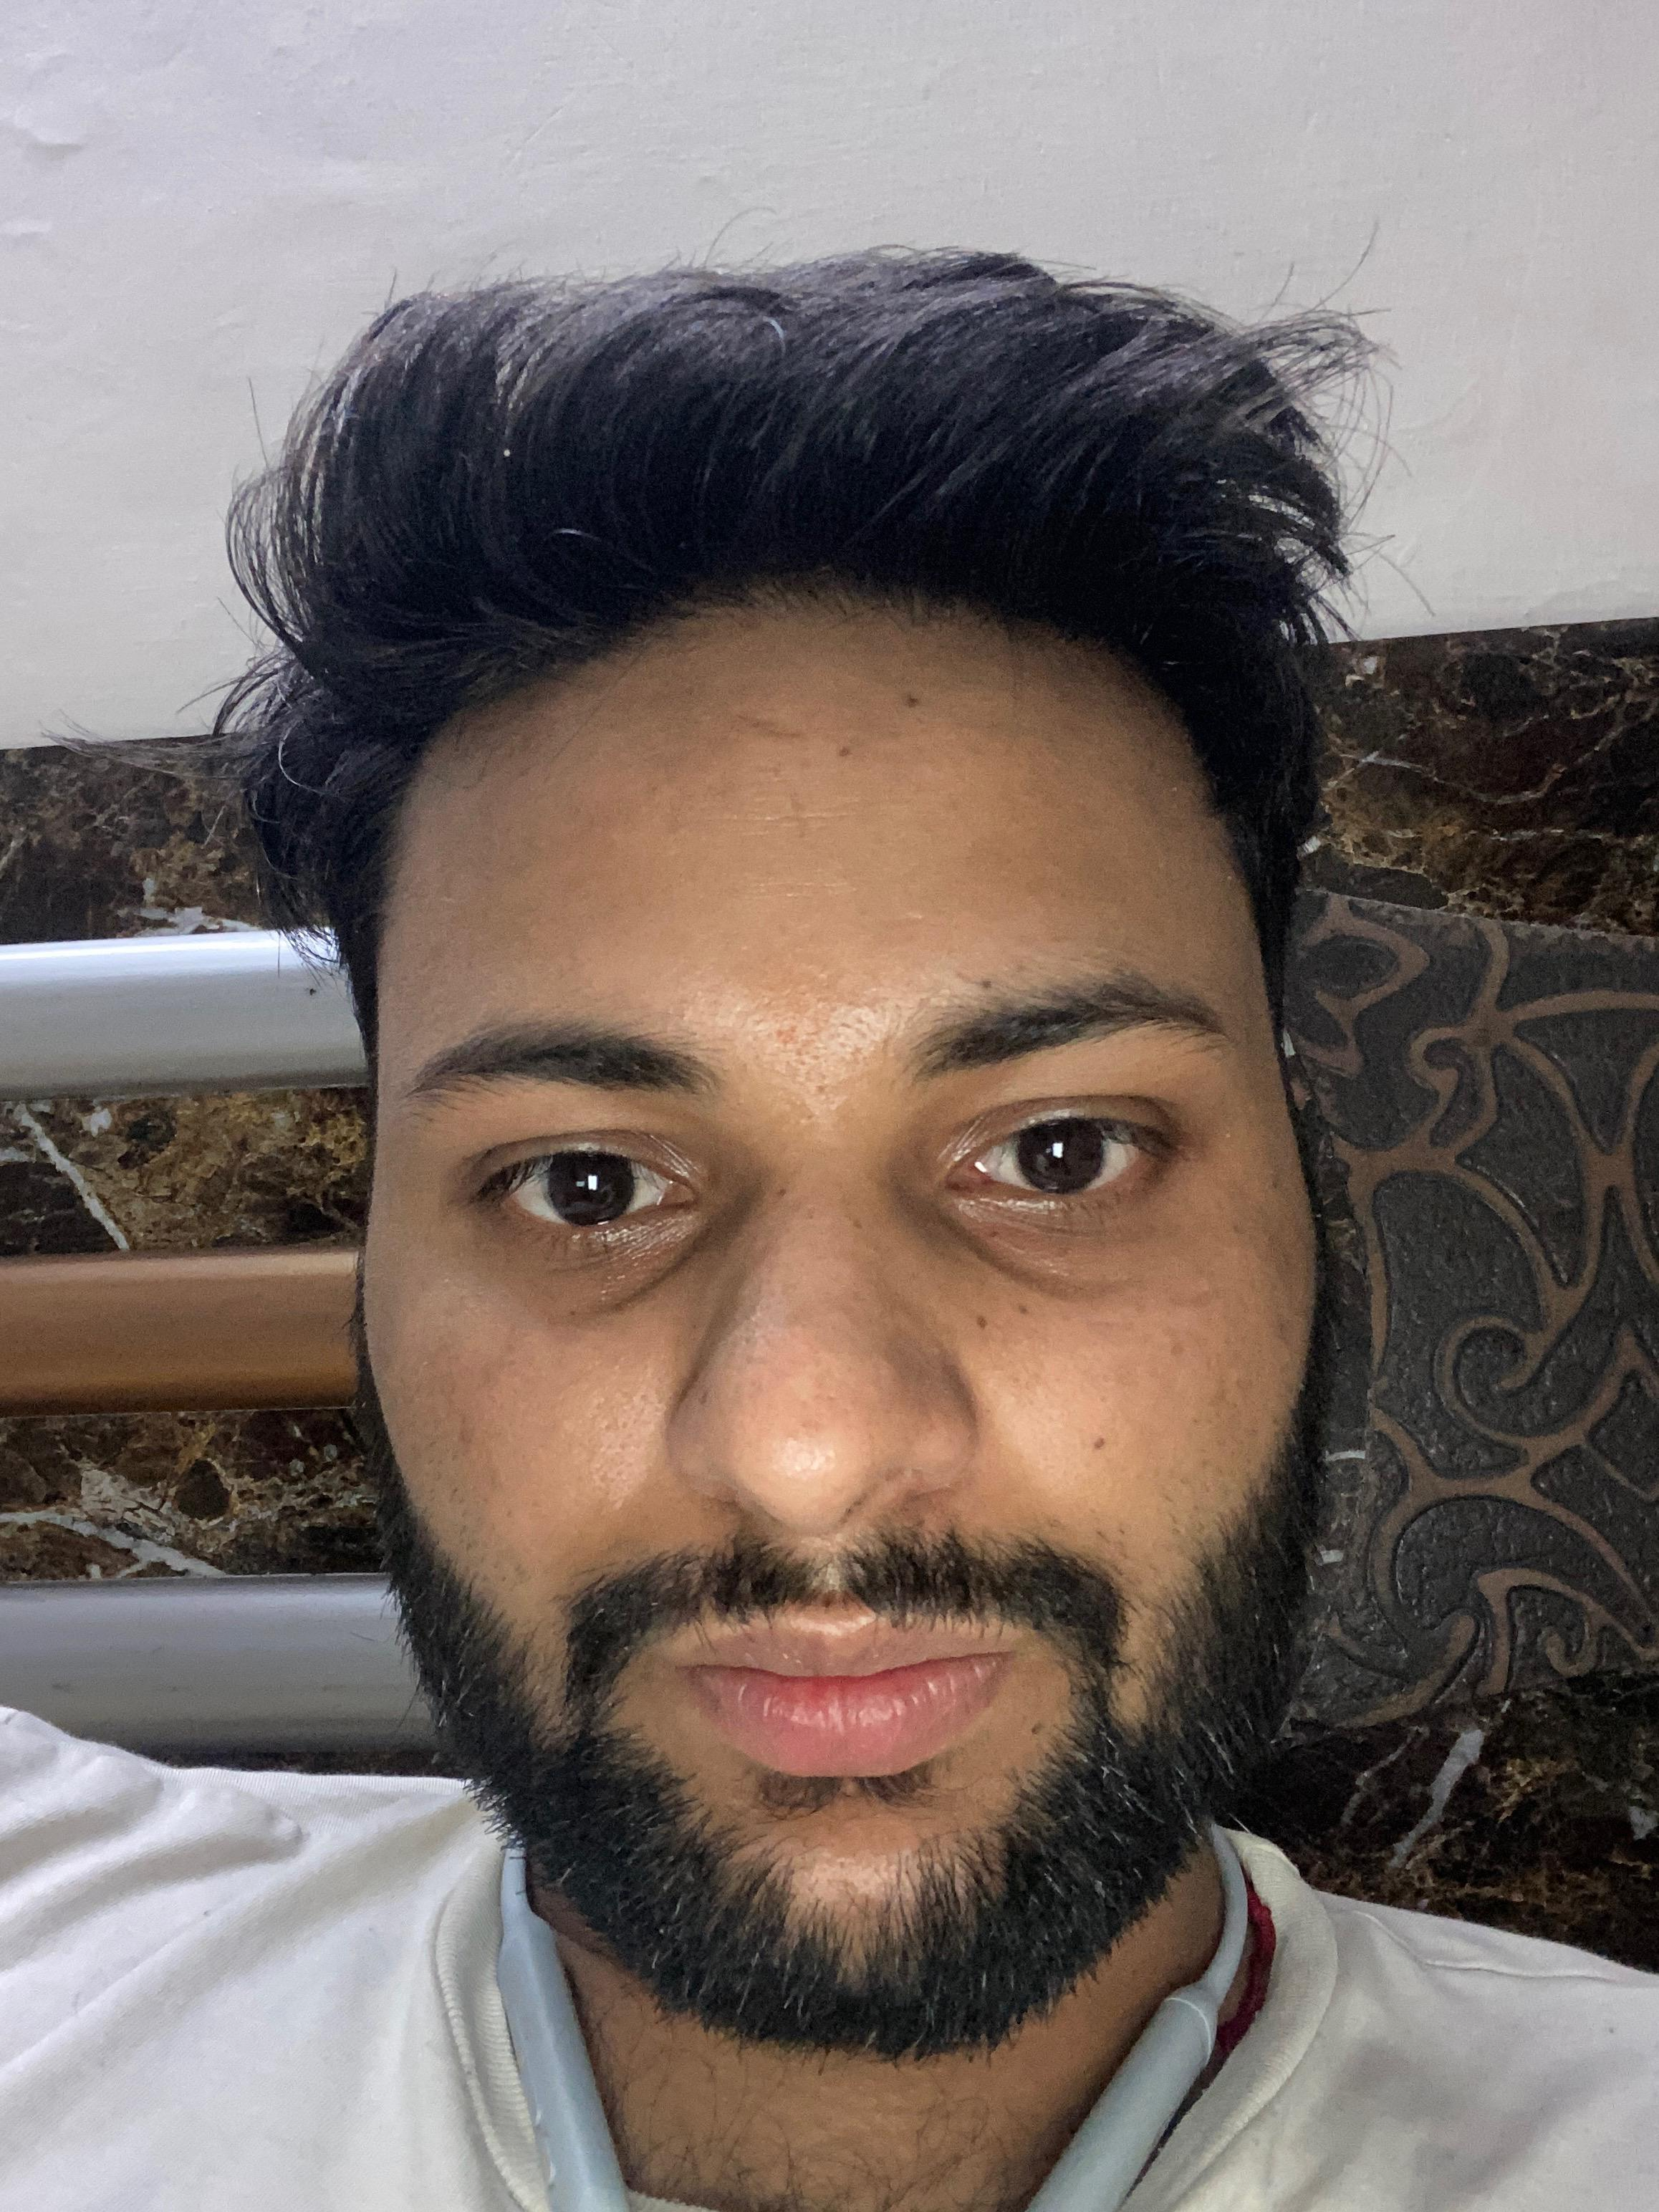Acne: (770, 1014, 800, 1052)
Englarged-Pores: (990, 1331, 1080, 1460), (586, 1383, 659, 1493)
Eyebags: (450, 1183, 739, 1338), (925, 1148, 1194, 1305)
Wrinkles: (683, 873, 880, 904), (659, 801, 892, 824)
